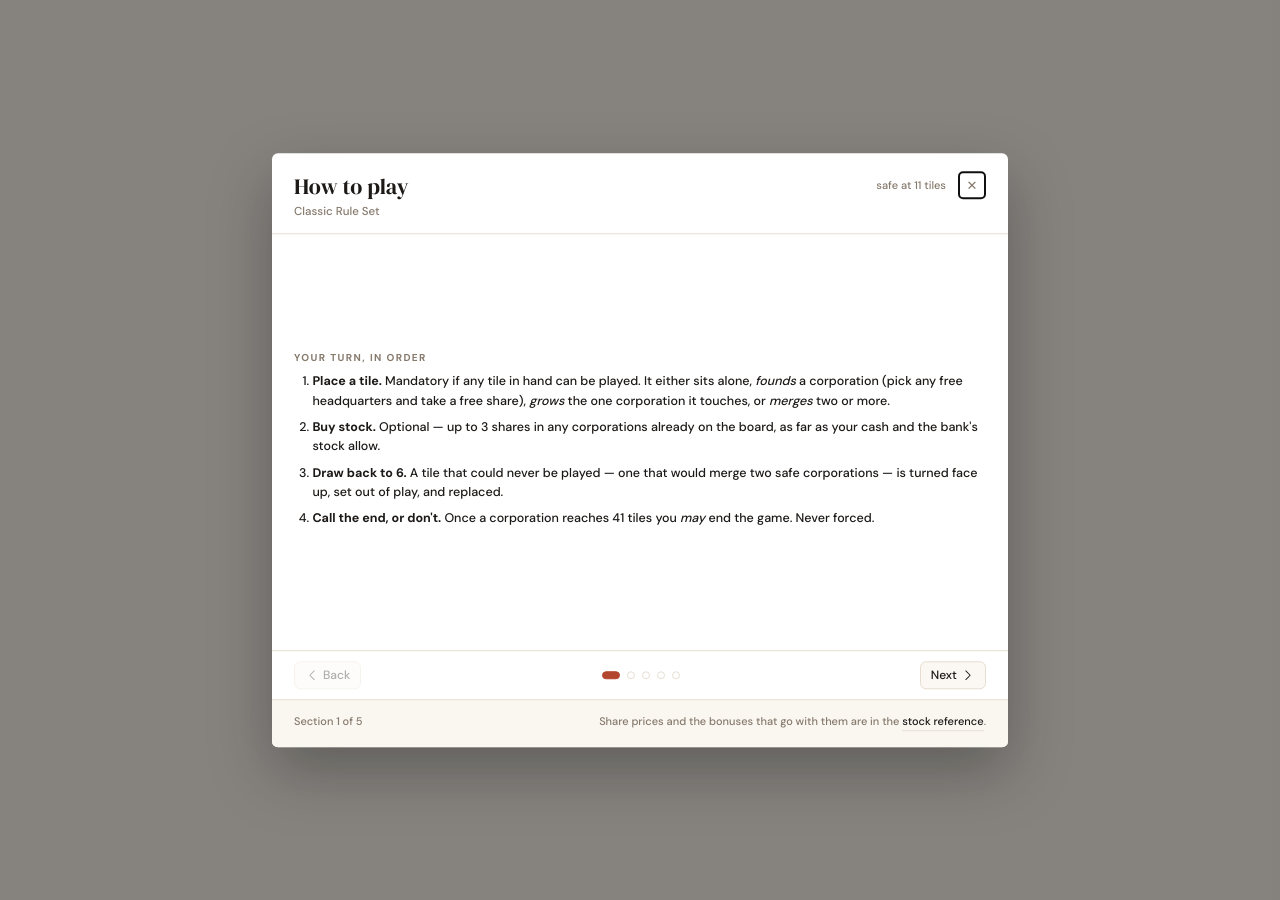
Test: RulesReference modal › reads the classic ruleset rather than hardcoding it
Check: the dialog "How to play" shows "Classic", box 294,204 -> 380,219
Check: the dialog "How to play" shows "safe at 11 tiles", box 876,178 -> 946,192
Click the button named "What Classic sets" at (676, 675), box 672,671 -> 680,679
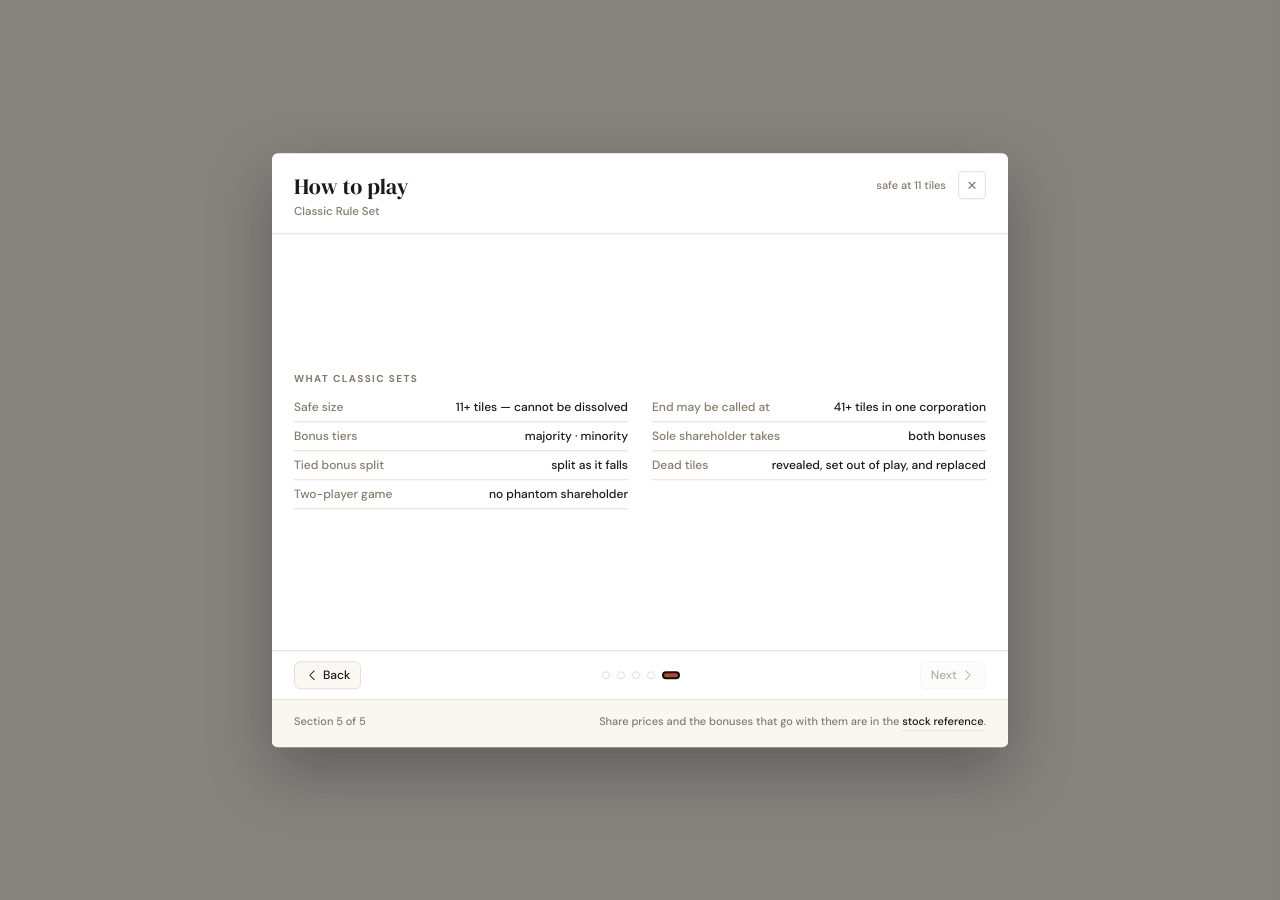
Check: the dialog "How to play" shows "11+ tiles — cannot be dissolved", box 456,399 -> 628,415
Check: the dialog "How to play" shows "41+ tiles in one corporation", box 834,399 -> 986,415
Check: the dialog "How to play" shows "majority · minority", box 525,428 -> 628,444
Click the button named "The table" at (651, 675), box 647,671 -> 655,679
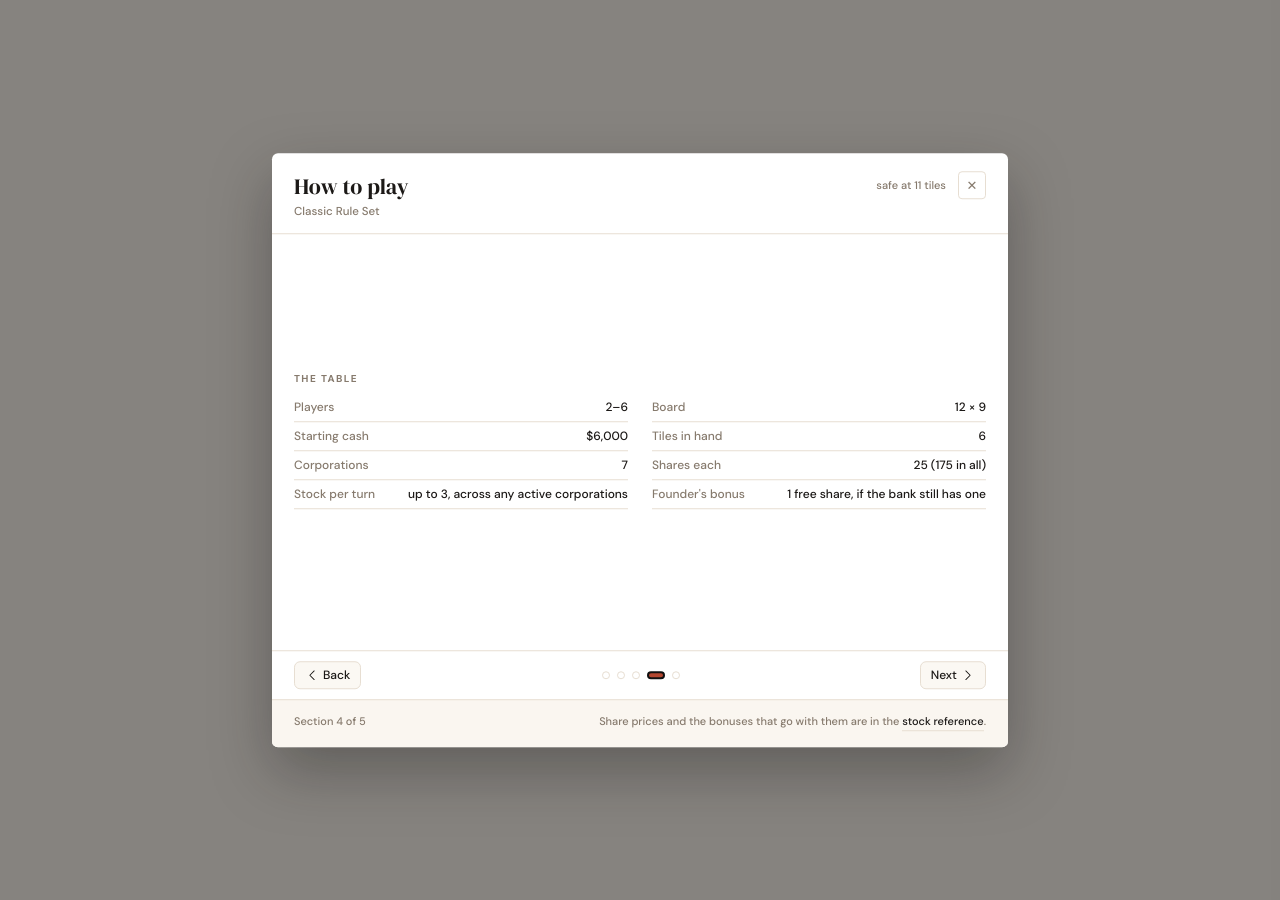
Check: the dialog "How to play" shows "12 × 9", box 955,399 -> 986,415
